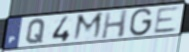4: (51, 14, 72, 43)
E: (153, 5, 183, 35)
G: (128, 7, 155, 37)
H: (100, 9, 130, 40)
M: (71, 11, 105, 42)
Q: (24, 18, 48, 45)
